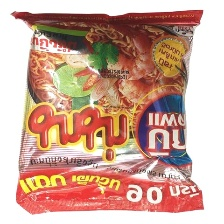snack: (4, 2, 211, 221)
